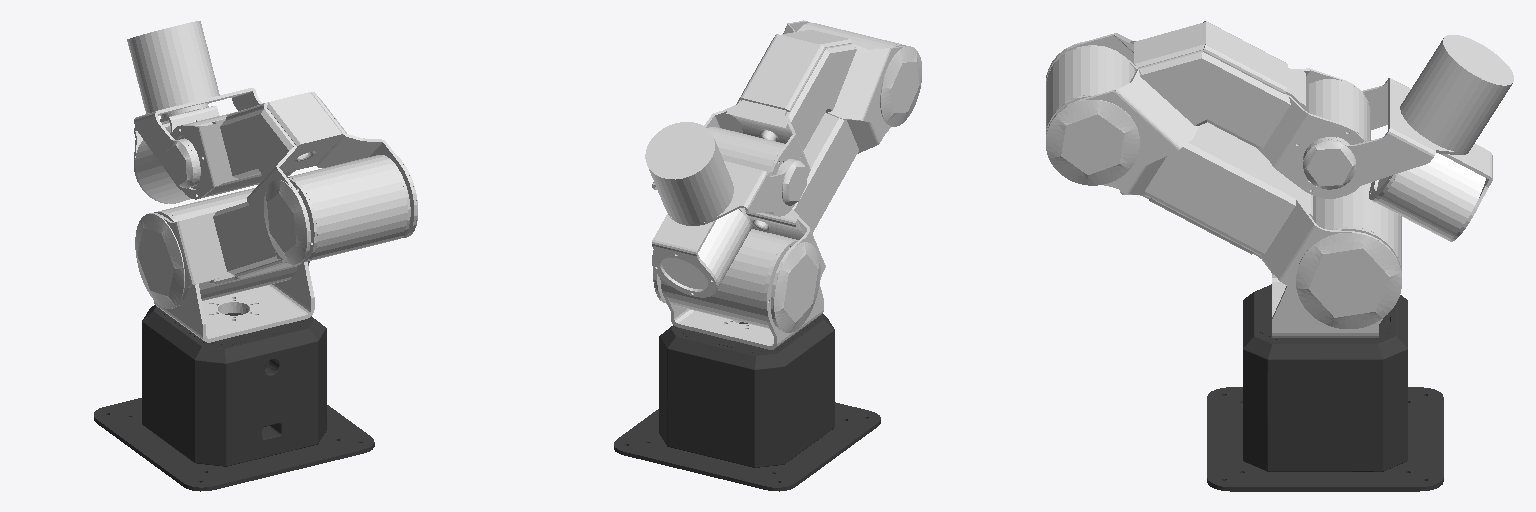
robot.urdf — if_arm_lite:
<?xml version="1.0" encoding="utf-8"?>
<!-- This URDF was automatically created by SolidWorks to URDF Exporter! Originally created by Stephen Brawner (brawner@gmail.com) 
     Commit Version: 1.6.0-4-g7f85cfe  Build Version: 1.6.7995.38578
     For more information, please see http://wiki.ros.org/sw_urdf_exporter -->
<robot
  name="if_arm_lite">
  <link
    name="base_link">
    <inertial>
      <origin
        xyz="1.84824077084014E-09 0.000211541281536506 0.0532296300077543"
        rpy="0 0 0" />
      <mass
        value="2.38849935464757" />
      <inertia
        ixx="0.00651750797540401"
        ixy="2.39368314572384E-10"
        ixz="-1.47345775853904E-10"
        iyy="0.00654904298187045"
        iyz="1.87546596302652E-06"
        izz="0.00948632530264008" />
    </inertial>
    <visual>
      <origin
        xyz="0 0 0"
        rpy="0 0 0" />
      <geometry>
        <mesh
          filename="package://if_arm_lite/meshes/base_link.STL" />
      </geometry>
      <material
        name="">
        <color
          rgba="0.298039215686275 0.298039215686275 0.298039215686275 1" />
      </material>
    </visual>
    <collision>
      <origin
        xyz="0 0 0"
        rpy="0 0 0" />
      <geometry>
        <mesh
          filename="package://if_arm_lite/meshes/base_link.STL" />
      </geometry>
    </collision>
  </link>
  <link
    name="link1">
    <inertial>
      <origin
        xyz="4.62130863252275E-18 0.0156844507528627 0.0456221491202041"
        rpy="0 0 0" />
      <mass
        value="0.933149430168335" />
      <inertia
        ixx="0.00104952511106191"
        ixy="-5.93353691391485E-20"
        ixz="-1.27975732868334E-19"
        iyy="0.00168075344251834"
        iyz="-3.24983681888483E-05"
        izz="0.00169644886128329" />
    </inertial>
    <visual>
      <origin
        xyz="0 0 0"
        rpy="0 0 0" />
      <geometry>
        <mesh
          filename="package://if_arm_lite/meshes/link1.STL" />
      </geometry>
      <material
        name="">
        <color
          rgba="0.894117647058823 0.894117647058823 0.894117647058823 1" />
      </material>
    </visual>
    <collision>
      <origin
        xyz="0 0 0"
        rpy="0 0 0" />
      <geometry>
        <mesh
          filename="package://if_arm_lite/meshes/link1.STL" />
      </geometry>
    </collision>
  </link>
  <joint
    name="joint1"
    type="revolute">
    <origin
      xyz="0 0 0.125"
      rpy="0 0 0" />
    <parent
      link="base_link" />
    <child
      link="link1" />
    <axis
      xyz="0 0 1" />
    <limit
      lower="-3.141592653589793"
      upper="2.6179938779914944"
      effort="100"
      velocity="1" />
  </joint>
  <link
    name="link2">
    <inertial>
      <origin
        xyz="-4.61419147043162E-08 -0.128534923450399 0.0720247177223146"
        rpy="0 0 0" />
      <mass
        value="1.54551028823085" />
      <inertia
        ixx="0.00460540946359347"
        ixy="3.17553563878226E-09"
        ixz="-2.88288621661547E-09"
        iyy="0.00283717004815554"
        iyz="0.00141070193426576"
        izz="0.00457809769437578" />
    </inertial>
    <visual>
      <origin
        xyz="0 0 0"
        rpy="0 0 0" />
      <geometry>
        <mesh
          filename="package://if_arm_lite/meshes/link2.STL" />
      </geometry>
      <material
        name="">
        <color
          rgba="0.894117647058823 0.894117647058823 0.894117647058823 1" />
      </material>
    </visual>
    <collision>
      <origin
        xyz="0 0 0"
        rpy="0 0 0" />
      <geometry>
        <mesh
          filename="package://if_arm_lite/meshes/link2.STL" />
      </geometry>
    </collision>
  </link>
  <joint
    name="joint2"
    type="revolute">
    <origin
      xyz="0 0.02 0.056"
      rpy="0 0 0" />
    <parent
      link="link1" />
    <child
      link="link2" />
    <axis
      xyz="1 0 0" />
    <limit
      lower="-2.6179938779914944"
      upper="0"
      effort="100"
      velocity="1" />
  </joint>
  <link
    name="link3">
    <inertial>
      <origin
        xyz="5.55672937164869E-09 0.120071629995531 0.00534094980014044"
        rpy="0 0 0" />
      <mass
        value="1.06394249157461" />
      <inertia
        ixx="0.00252936419504287"
        ixy="1.03269761197127E-10"
        ixz="1.09058191056525E-10"
        iyy="0.00140031955002125"
        iyz="0.000162071876171997"
        izz="0.00282634894101918" />
    </inertial>
    <visual>
      <origin
        xyz="0 0 0"
        rpy="0 0 0" />
      <geometry>
        <mesh
          filename="package://if_arm_lite/meshes/link3.STL" />
      </geometry>
      <material
        name="">
        <color
          rgba="0.894117647058823 0.894117647058823 0.894117647058823 1" />
      </material>
    </visual>
    <collision>
      <origin
        xyz="0 0 0"
        rpy="0 0 0" />
      <geometry>
        <mesh
          filename="package://if_arm_lite/meshes/link3.STL" />
      </geometry>
    </collision>
  </link>
  <joint
    name="joint3"
    type="revolute">
    <origin
      xyz="0 -0.21651 0.125"
      rpy="0 0 0" />
    <parent
      link="link2" />
    <child
      link="link3" />
    <axis
      xyz="1 0 0" />
    <limit
      lower="0"
      upper="3.141592653589793"
      effort="100"
      velocity="1" />
  </joint>
  <link
    name="link4">
    <inertial>
      <origin
        xyz="7.93253236862919E-17 0.0792676987208508 0.028456071423967"
        rpy="0 0 0" />
      <mass
        value="0.434748343729053" />
      <inertia
        ixx="0.000355829485695714"
        ixy="4.6698346626299E-19"
        ixz="-5.26039313035956E-19"
        iyy="0.000423457123888174"
        iyz="-3.09645736814595E-05"
        izz="0.000503682209029024" />
    </inertial>
    <visual>
      <origin
        xyz="0 0 0"
        rpy="0 0 0" />
      <geometry>
        <mesh
          filename="package://if_arm_lite/meshes/link4.STL" />
      </geometry>
      <material
        name="">
        <color
          rgba="0.894117647058823 0.894117647058823 0.894117647058823 1" />
      </material>
    </visual>
    <collision>
      <origin
        xyz="0 0 0"
        rpy="0 0 0" />
      <geometry>
        <mesh
          filename="package://if_arm_lite/meshes/link4.STL" />
      </geometry>
    </collision>
  </link>
  <joint
    name="joint4"
    type="revolute">
    <origin
      xyz="0 0.20021 -0.023218"
      rpy="0 0 0" />
    <parent
      link="link3" />
    <child
      link="link4" />
    <axis
      xyz="1 0 0" />
    <limit
      lower="-1.5707963267948966"
      upper="1.3962634015954636"
      effort="100"
      velocity="1" />
  </joint>
  <link
    name="link5">
    <inertial>
      <origin
        xyz="1.6506863981244E-16 -0.0136296961440297 -0.058384862808969"
        rpy="0 0 0" />
      <mass
        value="0.0818423984417808" />
      <inertia
        ixx="0.00010074741025016"
        ixy="-1.24712309396742E-19"
        ixz="8.51468304424381E-20"
        iyy="6.70718590223407E-05"
        iyz="1.11155336043932E-05"
        izz="8.31280915214178E-05" />
    </inertial>
    <visual>
      <origin
        xyz="0 0 0"
        rpy="0 0 0" />
      <geometry>
        <mesh
          filename="package://if_arm_lite/meshes/link5.STL" />
      </geometry>
      <material
        name="">
        <color
          rgba="0.894117647058823 0.894117647058823 0.894117647058823 1" />
      </material>
    </visual>
    <collision>
      <origin
        xyz="0 0 0"
        rpy="0 0 0" />
      <geometry>
        <mesh
          filename="package://if_arm_lite/meshes/link5.STL" />
      </geometry>
    </collision>
  </link>
  <joint
    name="joint5"
    type="revolute">
    <origin
      xyz="0 0.10779 0.041692"
      rpy="0 0 0" />
    <parent
      link="link4" />
    <child
      link="link5" />
    <axis
      xyz="0 0.5 0.86603" />
    <limit
      lower="-0.7853981633974483"
      upper="0.7853981633974483"
      effort="100"
      velocity="1" />
  </joint>
  <link
    name="link6">
    <inertial>
      <origin
        xyz="-1.16098242560076E-17 -2.77555756156289E-17 -5.55111512312578E-17"
        rpy="0 0 0" />
      <mass
        value="0.27708847204662" />
      <inertia
        ixx="0.000204560564488417"
        ixy="-1.23910316012184E-19"
        ixz="5.95032315140653E-20"
        iyy="0.00017842765796852"
        iyz="1.50878406139696E-05"
        izz="0.000195849595648452" />
    </inertial>
    <visual>
      <origin
        xyz="0 0 0"
        rpy="0 0 0" />
      <geometry>
        <mesh
          filename="package://if_arm_lite/meshes/link6.STL" />
      </geometry>
      <material
        name="">
        <color
          rgba="1 1 1 1" />
      </material>
    </visual>
    <collision>
      <origin
        xyz="0 0 0"
        rpy="0 0 0" />
      <geometry>
        <mesh
          filename="package://if_arm_lite/meshes/link6.STL" />
      </geometry>
    </collision>
  </link>
  <joint
    name="joint6"
    type="revolute">
    <origin
      xyz="0 -0.023447 -0.084612"
      rpy="0 0 0" />
    <parent
      link="link5" />
    <child
      link="link6" />
    <axis
      xyz="0 0.86603 -0.5" />
    <limit
      lower="-3.14"
      upper="3.14"
      effort="100"
      velocity="1" />
  </joint>
</robot>

--- Render facts (derived) ---
Views: 3 orthographic renders of the robot side by side, from view 1: azimuth 30°, elevation 25°; view 2: azimuth 150°, elevation 25°; view 3: azimuth 270°, elevation 25°.
Robot: if_arm_lite — 7 links, 6 joints (6 revolute); root link base_link; default pose: every joint at zero.
Visible links, largest first — view 1: base_link, link2, link3, link4, link1, link6, link5; view 2: base_link, link3, link2, link4, link1, link6, link5; view 3: base_link, link3, link2, link4, link1, link6, link5.
Link boxes in pixels (left/top/right/bottom): base_link: left=94, top=305, right=374, bottom=491; link2: left=135, top=155, right=410, bottom=308; link3: left=171, top=92, right=417, bottom=264; link4: left=127, top=21, right=262, bottom=189; link1: left=154, top=188, right=314, bottom=342; link6: left=135, top=120, right=195, bottom=203; link5: left=134, top=103, right=219, bottom=203; base_link: left=614, top=314, right=880, bottom=491; link3: left=704, top=20, right=921, bottom=216; link2: left=653, top=22, right=905, bottom=332; link4: left=645, top=122, right=806, bottom=225; link1: left=660, top=229, right=823, bottom=349; link6: left=661, top=209, right=749, bottom=288; link5: left=652, top=208, right=751, bottom=297; base_link: left=1207, top=284, right=1443, bottom=491; link3: left=1046, top=21, right=1370, bottom=198; link2: left=1046, top=45, right=1401, bottom=328; link4: left=1303, top=35, right=1513, bottom=193; link1: left=1272, top=182, right=1401, bottom=337; link6: left=1375, top=153, right=1485, bottom=239; link5: left=1369, top=144, right=1492, bottom=241.
Size in the robot's own frame: 0.2 by 0.3963 by 0.3809 metres.
Meshes: 7 distinct files referenced, 7 mesh visuals loaded (7 binary STL).
